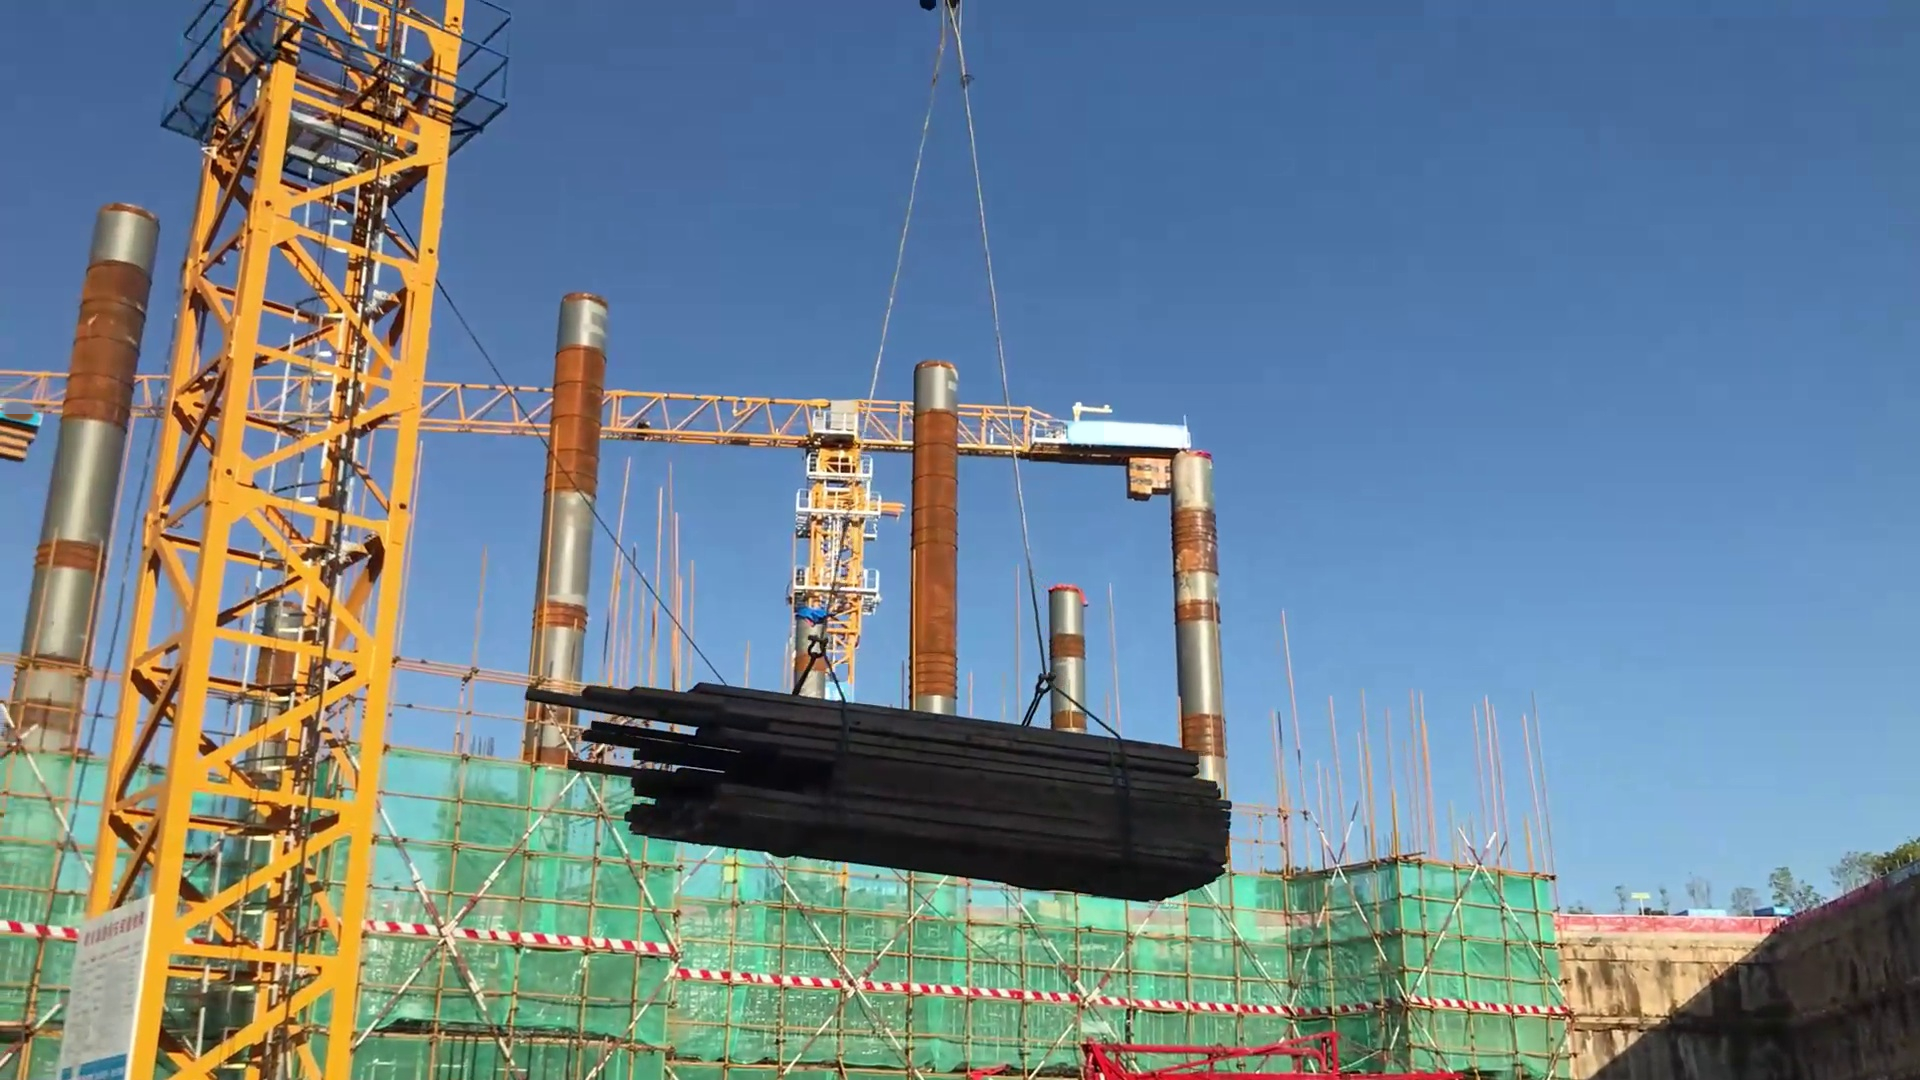wood: (522, 655, 1229, 909)
